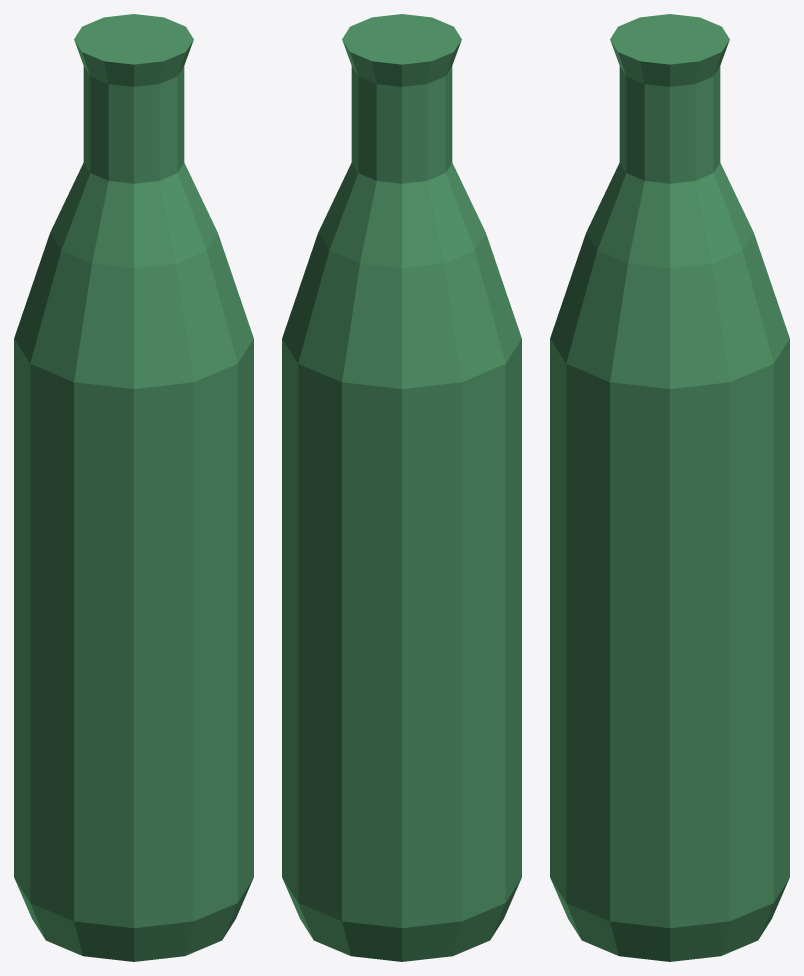
Rendered from bottle_glass_green.fbx.
3 renders of one model, left to right at view 1: azimuth 30°, elevation 25°; view 2: azimuth 150°, elevation 25°; view 3: azimuth 270°, elevation 25°, orthographic.
Parts seen in each view (by area): view 1: bottle_glass_green; view 2: bottle_glass_green; view 3: bottle_glass_green.
Part boxes in pixels (box(x1,y1,x2,y2)): bottle_glass_green: box(14, 14, 253, 961); bottle_glass_green: box(282, 14, 521, 961); bottle_glass_green: box(550, 14, 789, 961).
Bounding box in the file's own units: 0.021 × 0.085 × 0.021.
